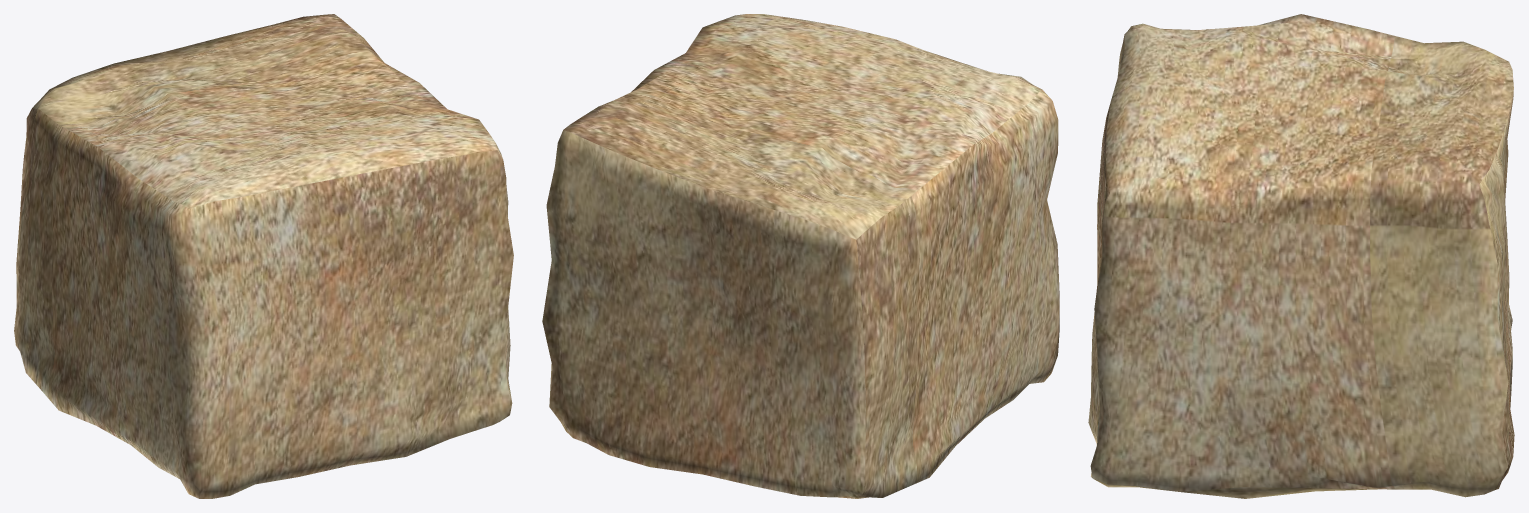
The model's file is FlyingStoneYellow.FBX.
3 views of the same model, side by side, from view 1: azimuth 30°, elevation 25°; view 2: azimuth 150°, elevation 25°; view 3: azimuth 270°, elevation 25° (orthographic). The views are drawn at different scales.
Parts seen in each view (by area): view 1: Obj3d66-8645007-6-249; view 2: Obj3d66-8645007-6-249; view 3: Obj3d66-8645007-6-249.
Boxes of the visible parts, left/top/right/bottom form: Obj3d66-8645007-6-249: left=14, top=14, right=513, bottom=498; Obj3d66-8645007-6-249: left=542, top=14, right=1059, bottom=498; Obj3d66-8645007-6-249: left=1088, top=14, right=1514, bottom=498.
Bounding box in the file's own units: 637 × 567 × 647.
1 material, 1 textured.
